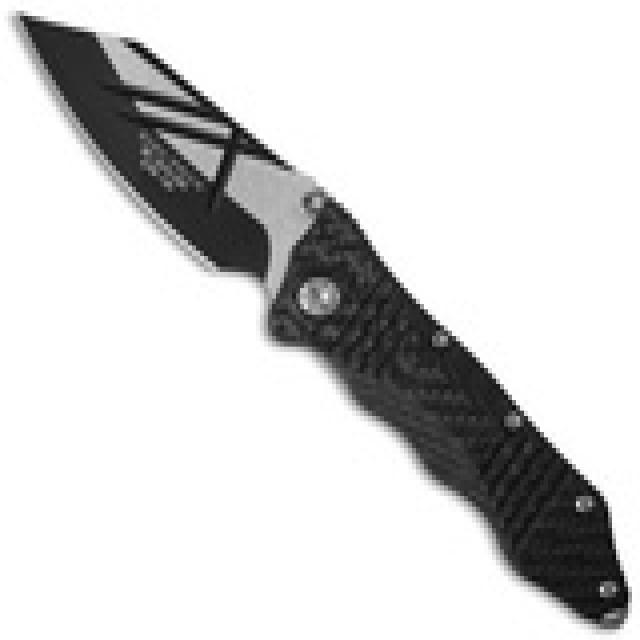Knife: (14, 14, 630, 622)
